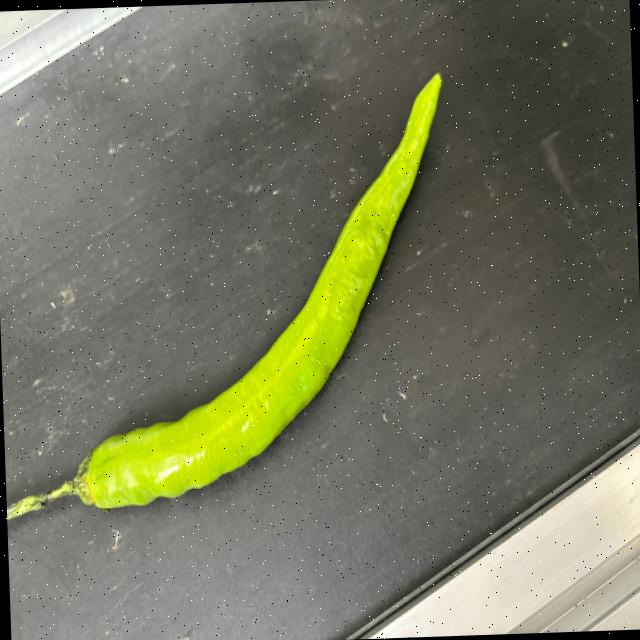chili: (70, 67, 445, 509)
